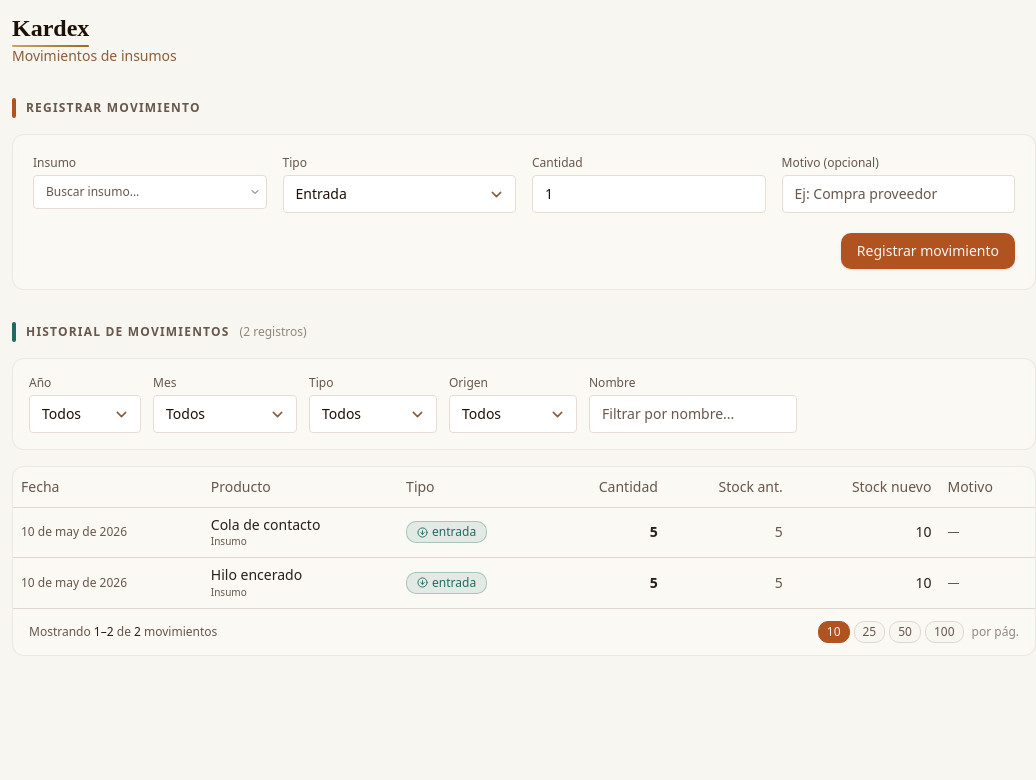
KardexView — filtros del historial › filtra por origen (manual vs automático)
Expected: the text "Cola de contacto" is shown, top-left (211, 514), bottom-right (320, 534)
Select "Automático" in the dropdown below "Origen" at (513, 414), box top-left (449, 395), bottom-right (577, 433)
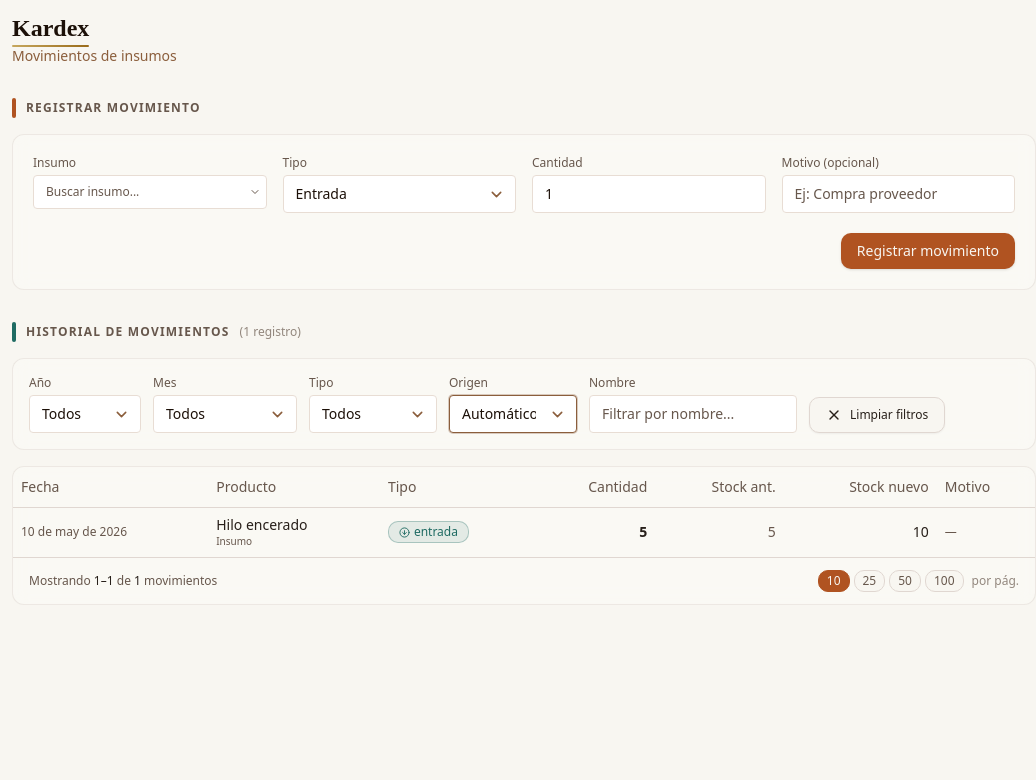
Expected: the text "Hilo encerado" is shown, top-left (216, 514), bottom-right (308, 534)
Expected: the text "Cola de contacto" is gone
